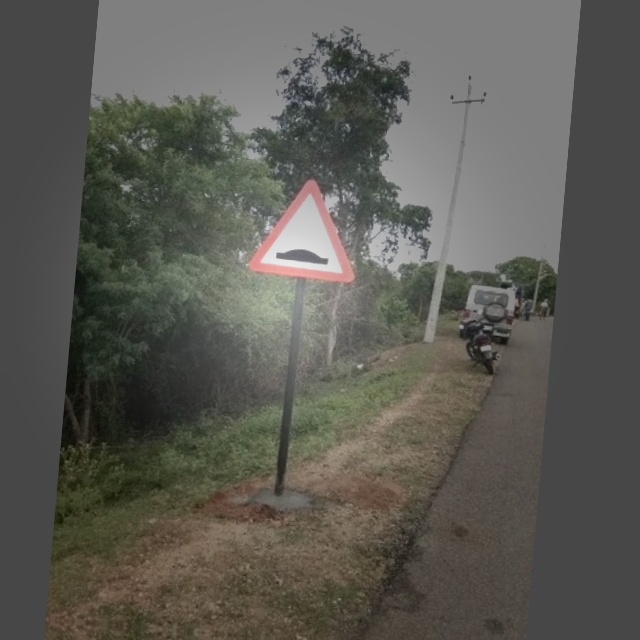Hump_or_Rough_Road: (240, 171, 366, 293)
